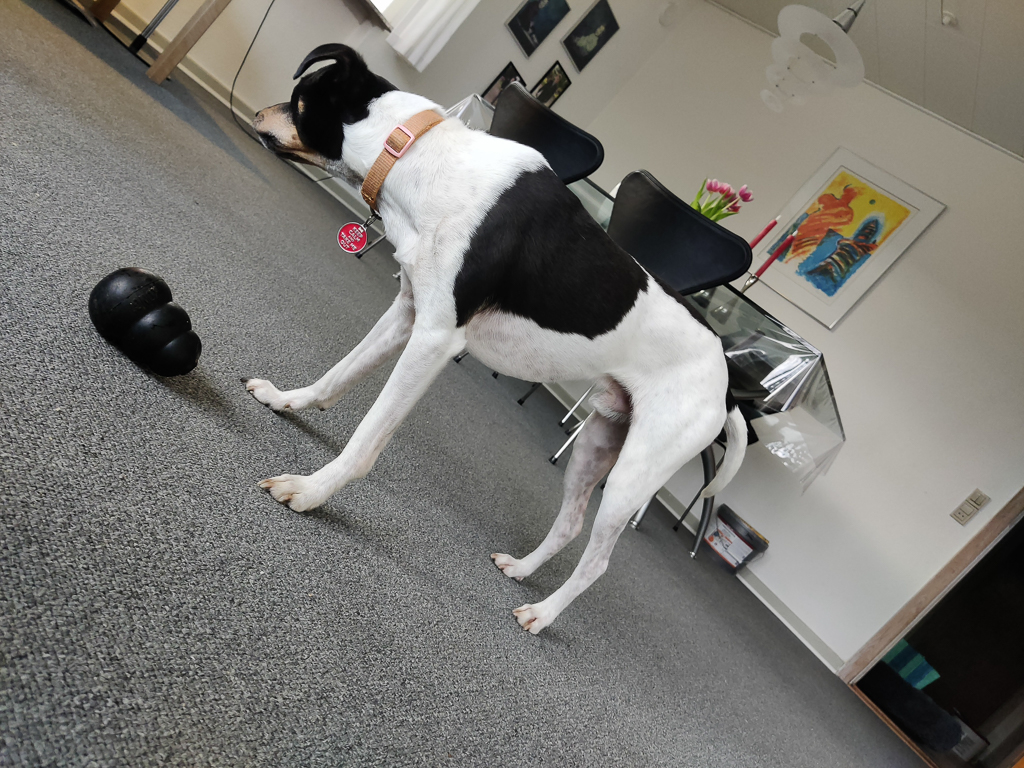Dog: (209, 20, 771, 656)
